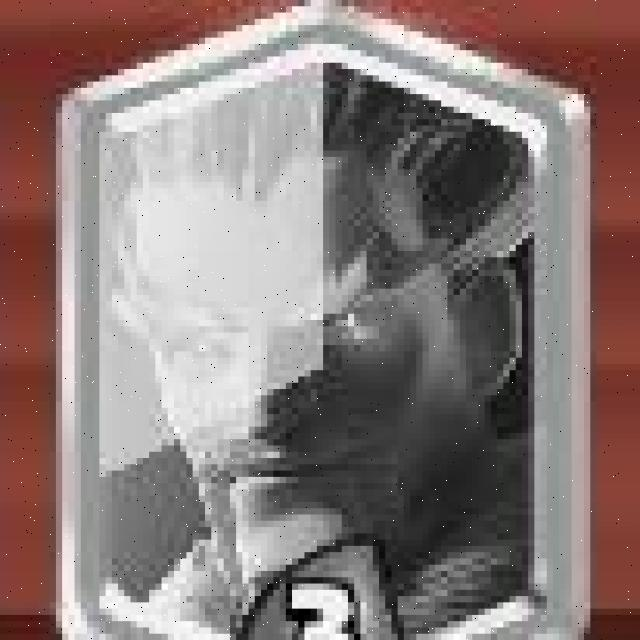Ice_Wizard: (69, 7, 579, 640)
